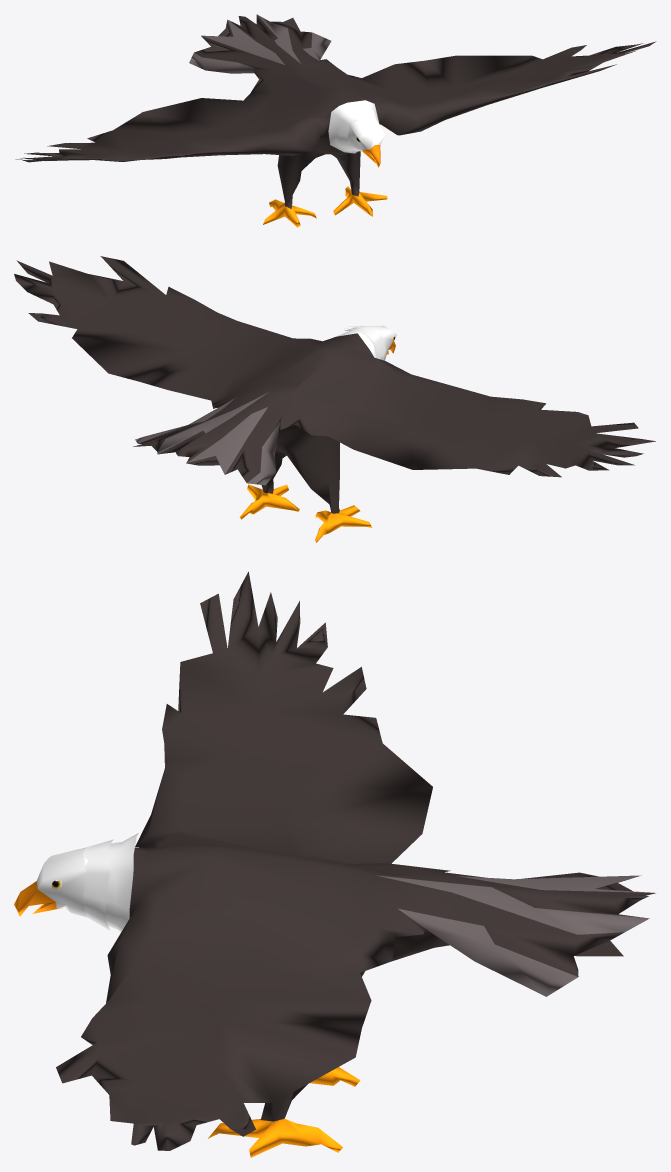
The model's file is Eagle.glb.
3 views of the same model, one above another, from view 1: azimuth 30°, elevation 25°; view 2: azimuth 150°, elevation 25°; view 3: azimuth 270°, elevation 25° (orthographic). The views are drawn at different scales.
Visible parts, largest first — view 1: Eagle; view 2: Eagle; view 3: Eagle.
Part boxes in pixels (left/top/right/bottom): Eagle: left=15, top=14, right=656, bottom=227; Eagle: left=14, top=256, right=655, bottom=542; Eagle: left=14, top=571, right=655, bottom=1157.
Size of what is drawn, in the model's own units: 2.68 by 0.6058 by 1.31.
1 material, 1 textured.
